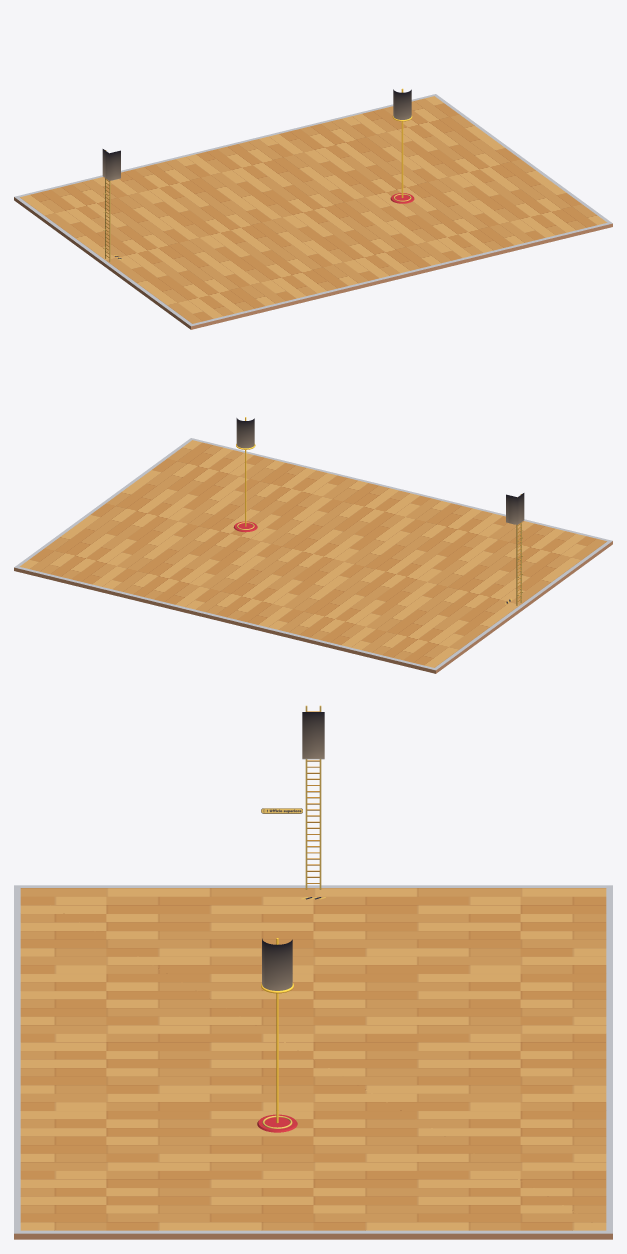
File: collegamenti_primo.glb
3 views of the same model, one above another, from view 1: azimuth 30°, elevation 25°; view 2: azimuth 150°, elevation 25°; view 3: azimuth 270°, elevation 25° (orthographic). The views are drawn at different scales.
Parts seen in each view (by area): view 1: Collegamenti_primo, pole.001, ladder.001; view 2: Collegamenti_primo, pole.001, ladder.001; view 3: Collegamenti_primo, pole.001, ladder.001.
Boxes of the visible parts, bbox=[...] form: Collegamenti_primo: bbox=[14, 94, 612, 329]; pole.001: bbox=[390, 88, 414, 203]; ladder.001: bbox=[103, 150, 122, 261]; Collegamenti_primo: bbox=[14, 438, 612, 673]; pole.001: bbox=[233, 417, 257, 532]; ladder.001: bbox=[505, 494, 523, 605]; Collegamenti_primo: bbox=[14, 712, 612, 1239]; pole.001: bbox=[257, 938, 297, 1132]; ladder.001: bbox=[301, 705, 325, 899].
Size of the model in its own units: 36.6 by 9.4 by 26.6.
17 materials, 3 textured.
